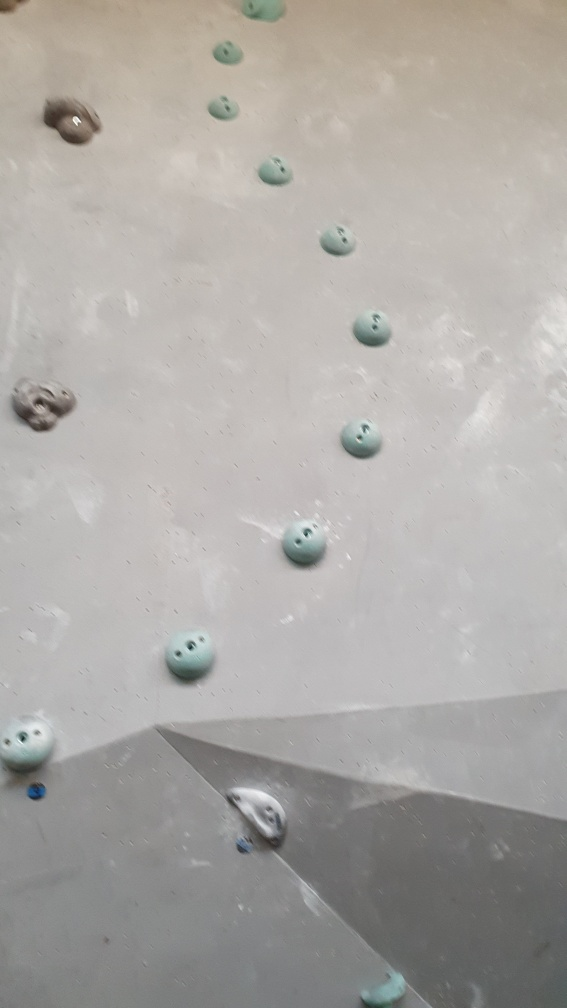Hand Start: (233, 825, 259, 861), (23, 778, 53, 809)
Jug: (8, 370, 81, 438), (41, 90, 109, 151)
Sloper: (1, 713, 60, 778), (163, 626, 221, 687), (278, 513, 332, 571), (339, 412, 385, 465), (349, 304, 394, 348), (319, 217, 360, 261), (258, 150, 299, 192), (203, 91, 247, 123), (208, 38, 246, 67)
